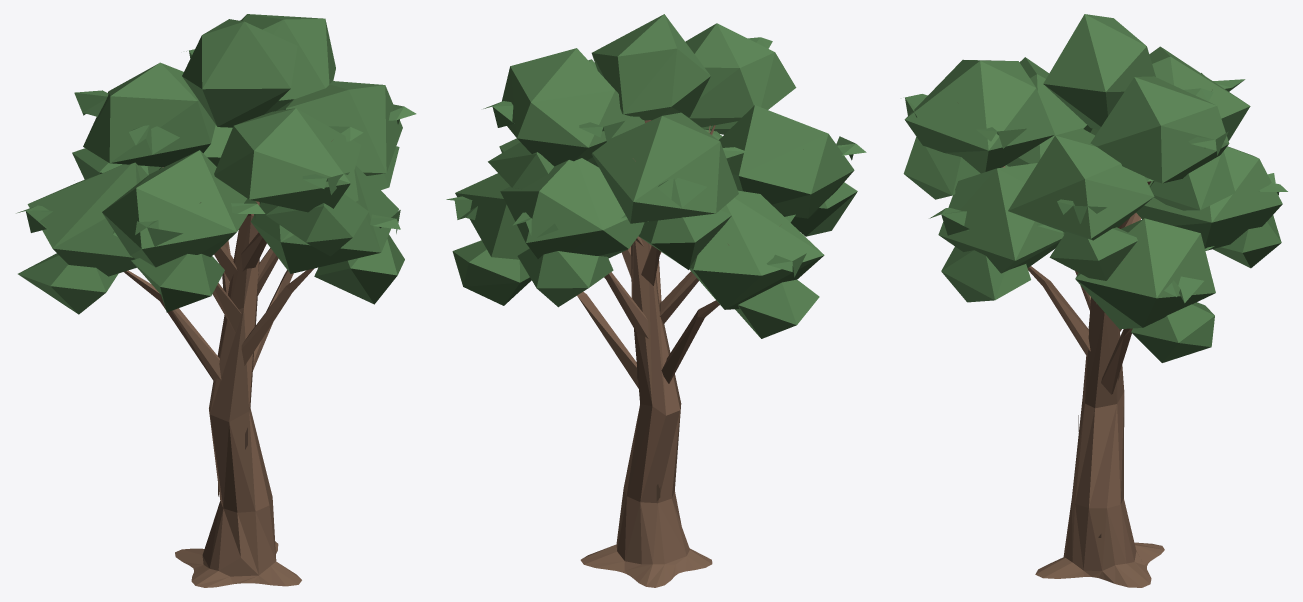
File: maple_summer.glb
The picture shows the model from 3 angles, left to right: view 1: azimuth 30°, elevation 25°; view 2: azimuth 150°, elevation 25°; view 3: azimuth 270°, elevation 25°; orthographic projection. The views are drawn at different scales.
Parts seen in each view (by area): view 1: leaves, branches; view 2: leaves, branches; view 3: leaves, branches.
Part boxes in pixels (bbox=[...]): leaves: bbox=[16, 14, 416, 314]; branches: bbox=[124, 140, 332, 587]; leaves: bbox=[446, 14, 866, 338]; branches: bbox=[577, 120, 728, 587]; leaves: bbox=[903, 14, 1287, 362]; branches: bbox=[1002, 166, 1164, 587].
Bounding box in the file's own units: 3.2 × 4.69 × 3.06.
